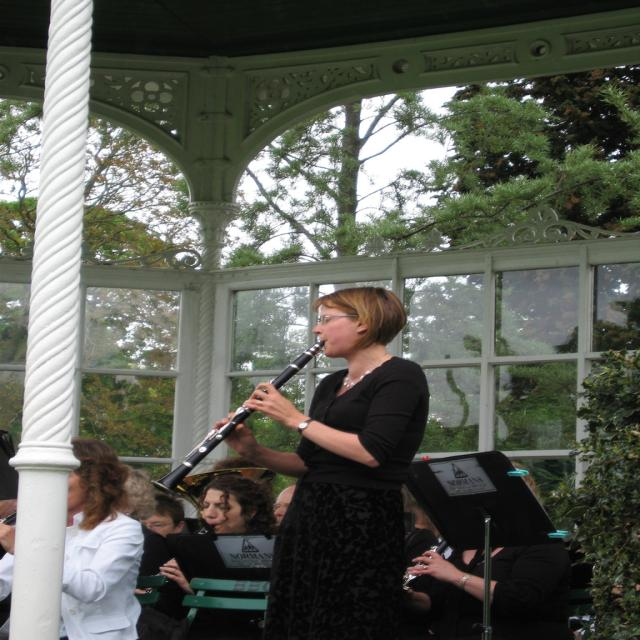clarinet: (148, 338, 328, 498)
